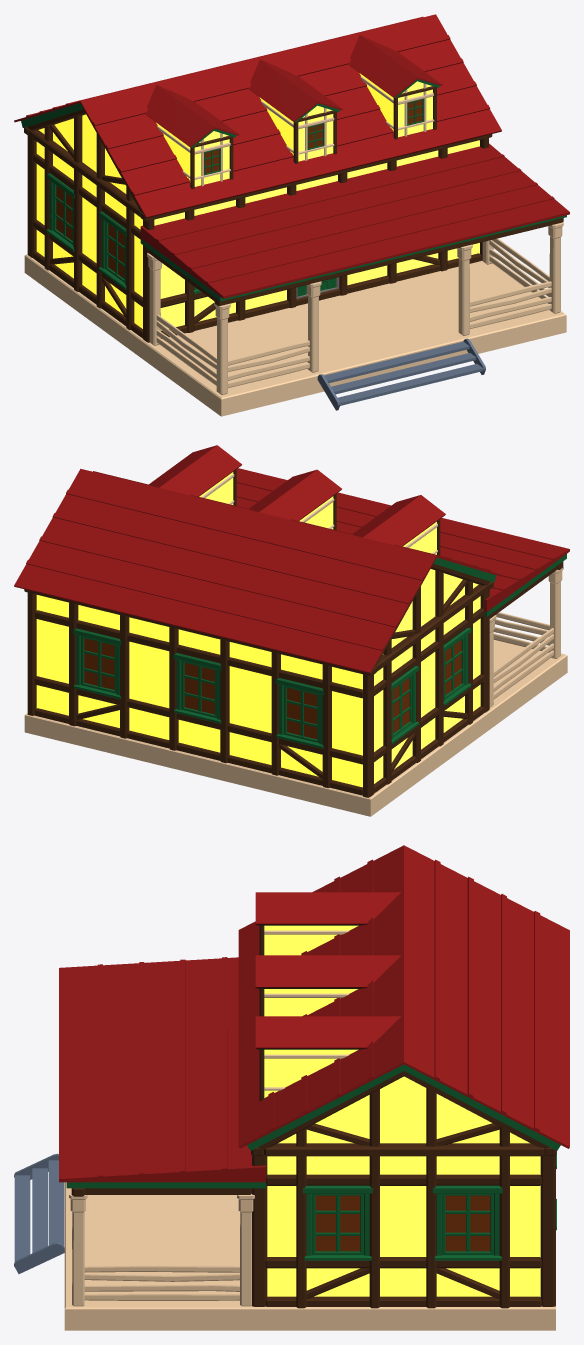
Rendered from house_04.glb.
3 views of the same model, one above another, from view 1: azimuth 30°, elevation 25°; view 2: azimuth 150°, elevation 25°; view 3: azimuth 270°, elevation 25° (orthographic). The views are drawn at different scales.
Visible parts, largest first — view 1: house_06.001; view 2: house_06.001; view 3: house_06.001.
Boxes of the visible parts, box(x1,y1,x2,y2) form: house_06.001: box(14, 14, 569, 416); house_06.001: box(14, 445, 569, 816); house_06.001: box(14, 845, 569, 1330).
Bounding box in the file's own units: 10.64 × 6.34 × 11.53.
